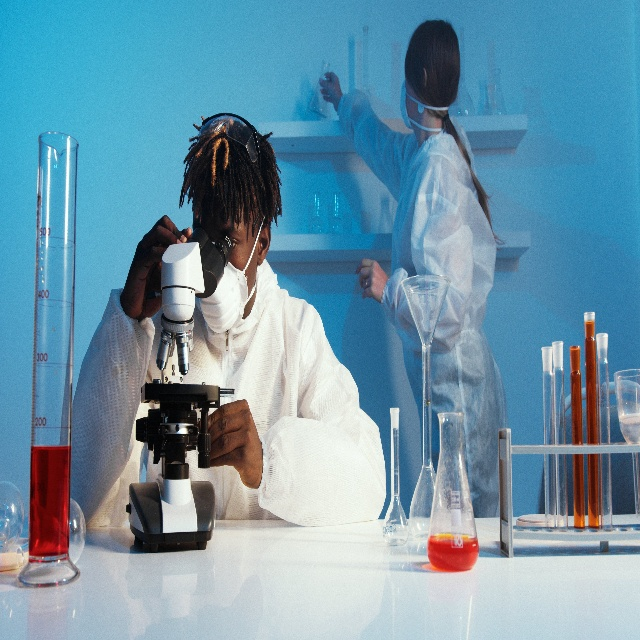Gafas: (199, 113, 264, 168)
Mascara: (195, 242, 247, 335), (399, 80, 410, 128)
Sin_guantes: (125, 214, 193, 320), (199, 397, 264, 487), (355, 256, 386, 305), (319, 70, 342, 110)
